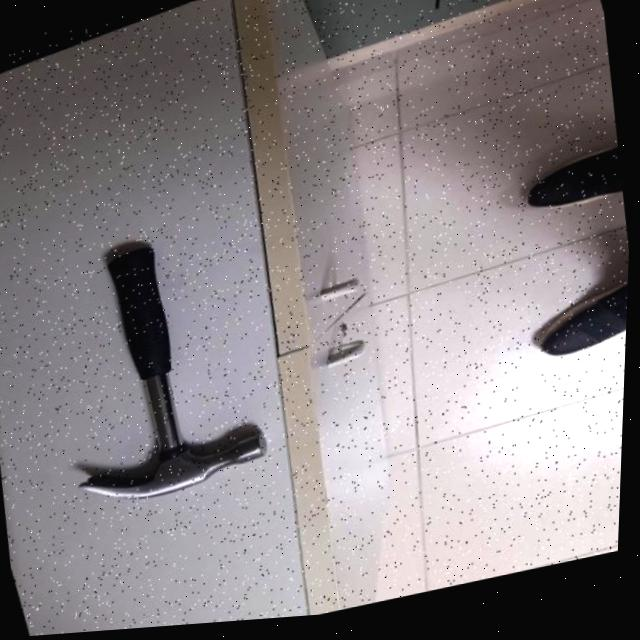hammer: (56, 237, 279, 507)
